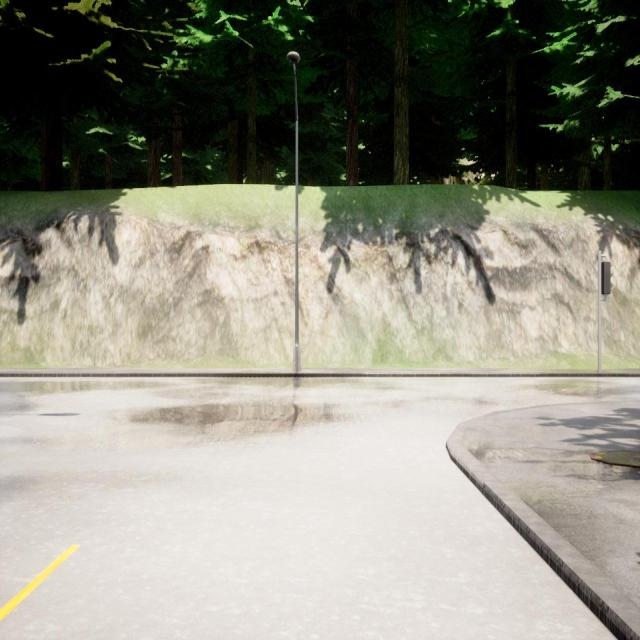traffic_light: (602, 262, 614, 294)
